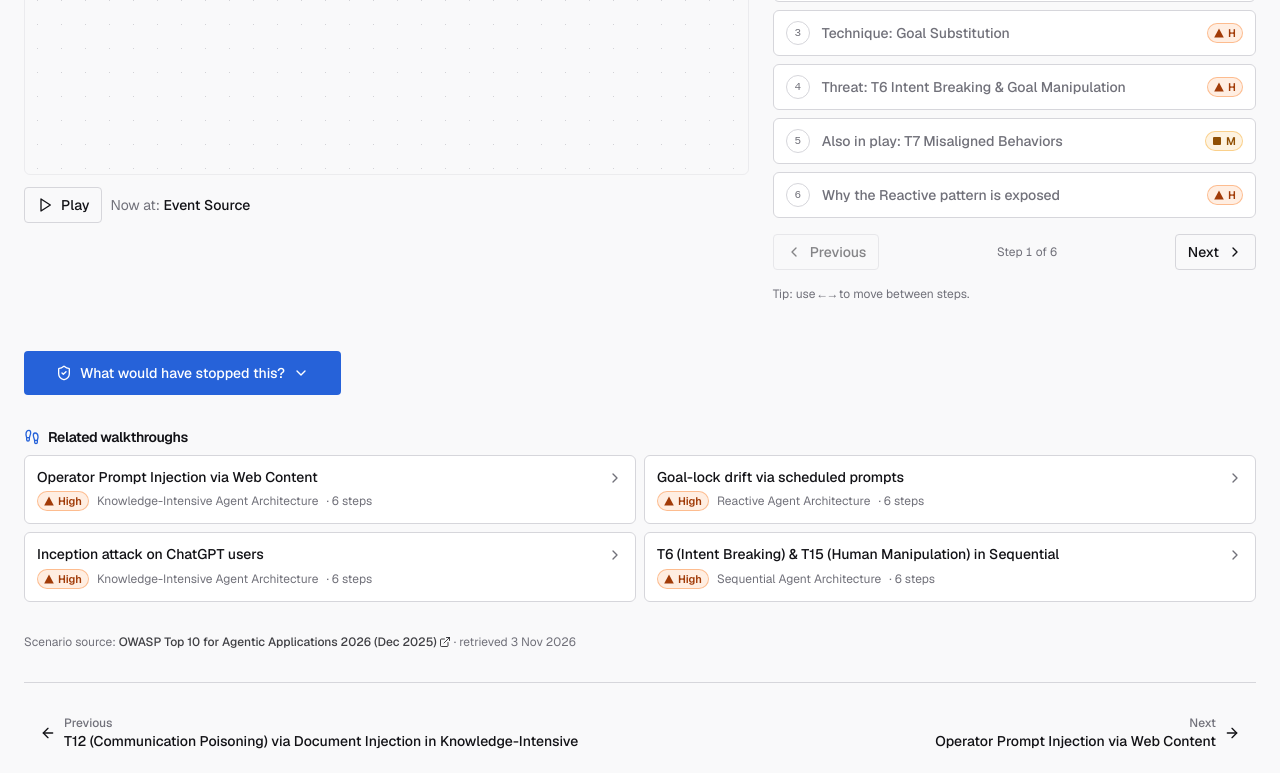
Test case: Phase 4 pages render › a scenario walks through its steps and reveals the controls
(page scrolled)
What coordinates should you click on to do the following:
click the button "What would have stopped this?"
I would click on:
 (182, 373)
Its box is [24,351,341,395].
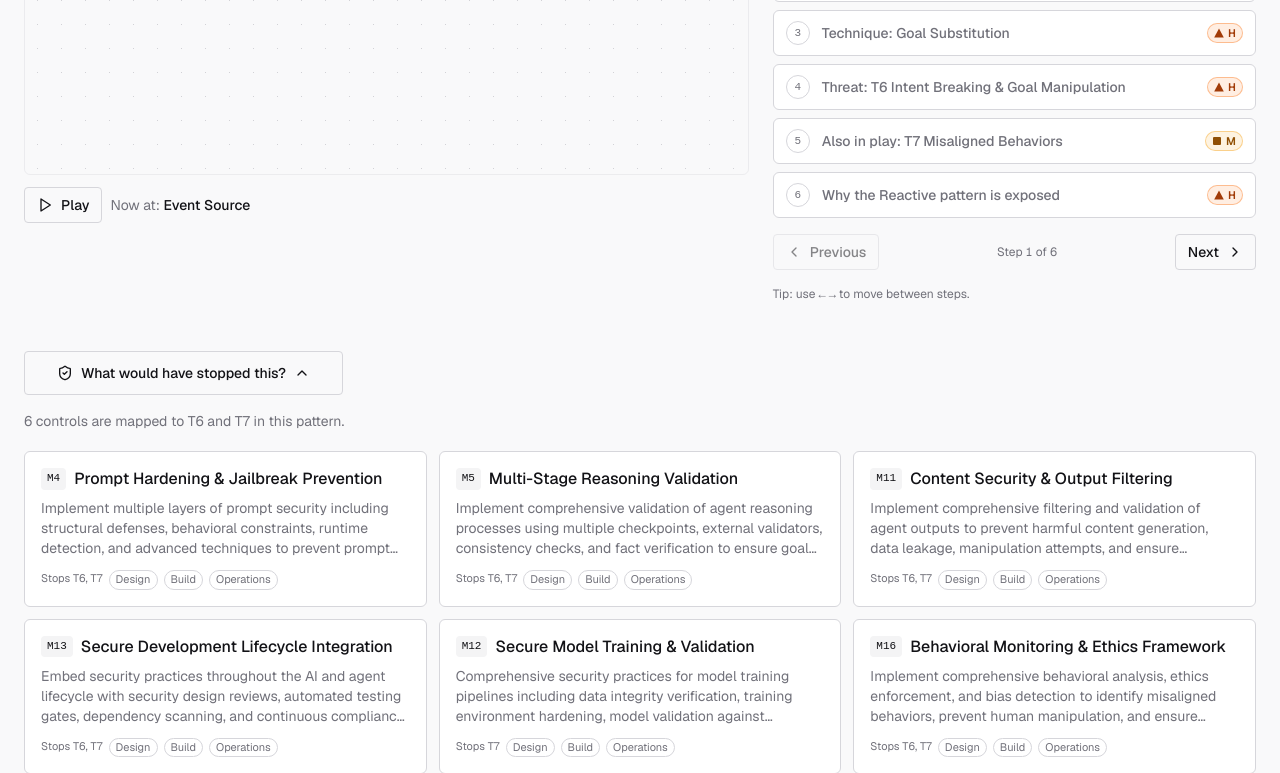
Expected: the button "What would have stopped this?" is expanded, [24,351,343,395]
